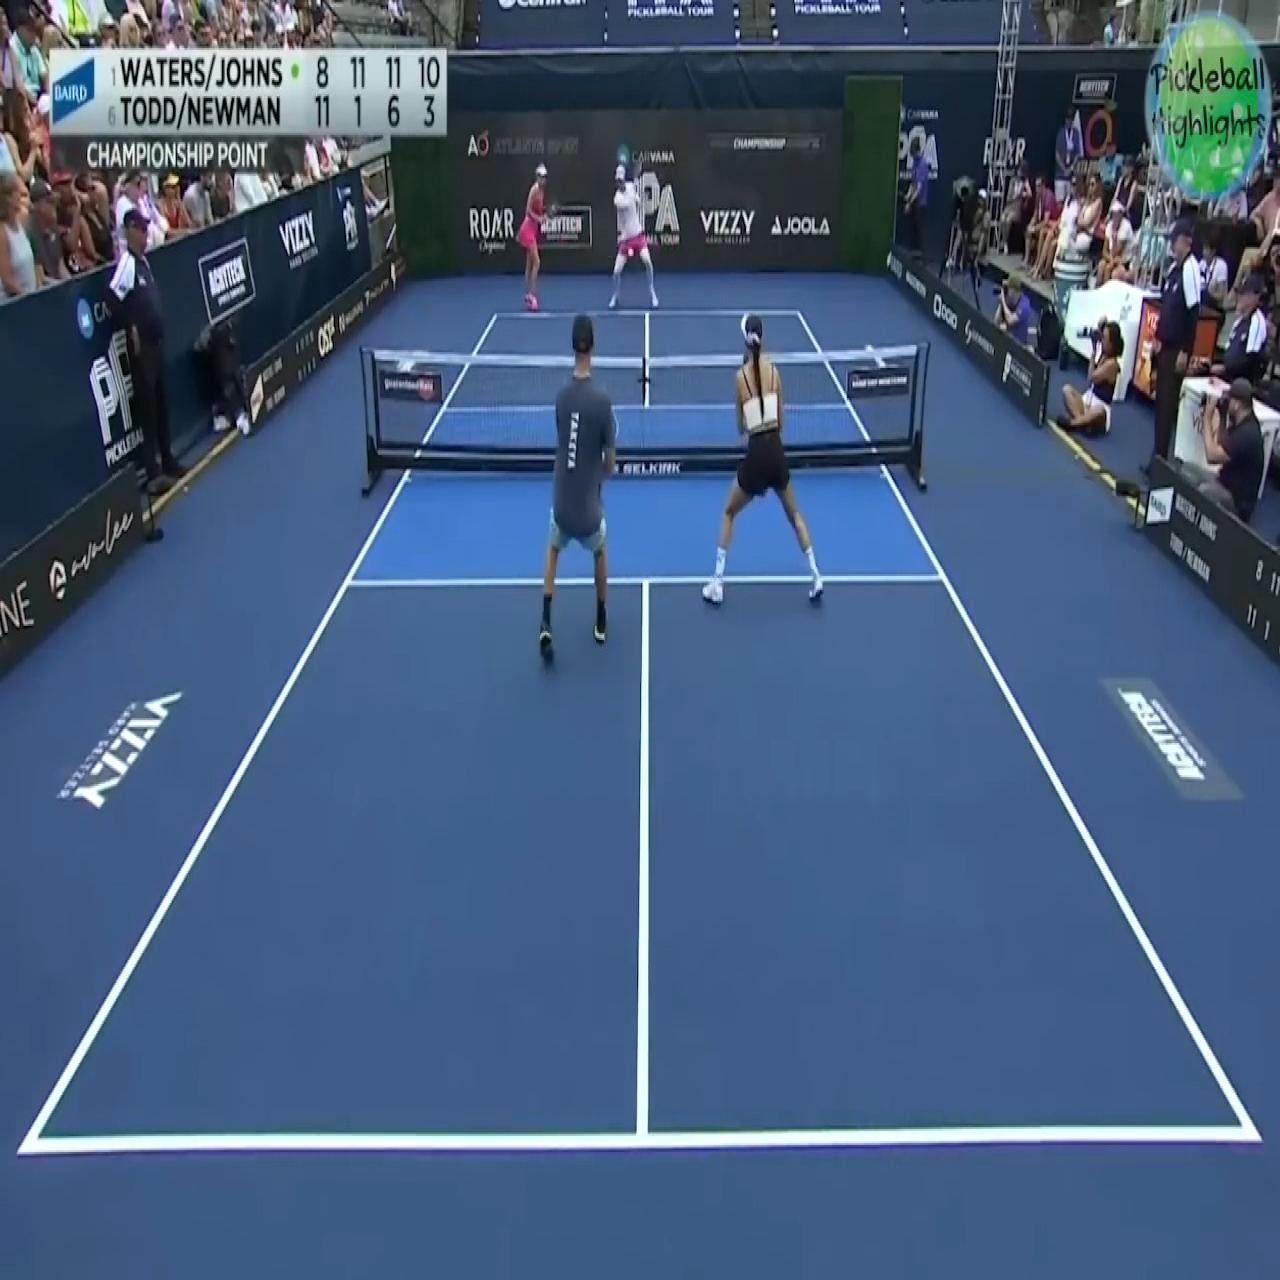Pickleball: (625, 239, 638, 258)
